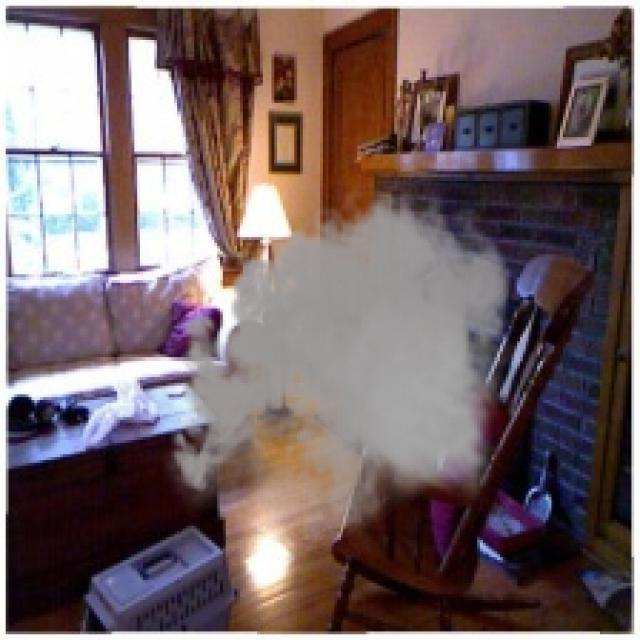Smoke: (160, 179, 523, 552)
